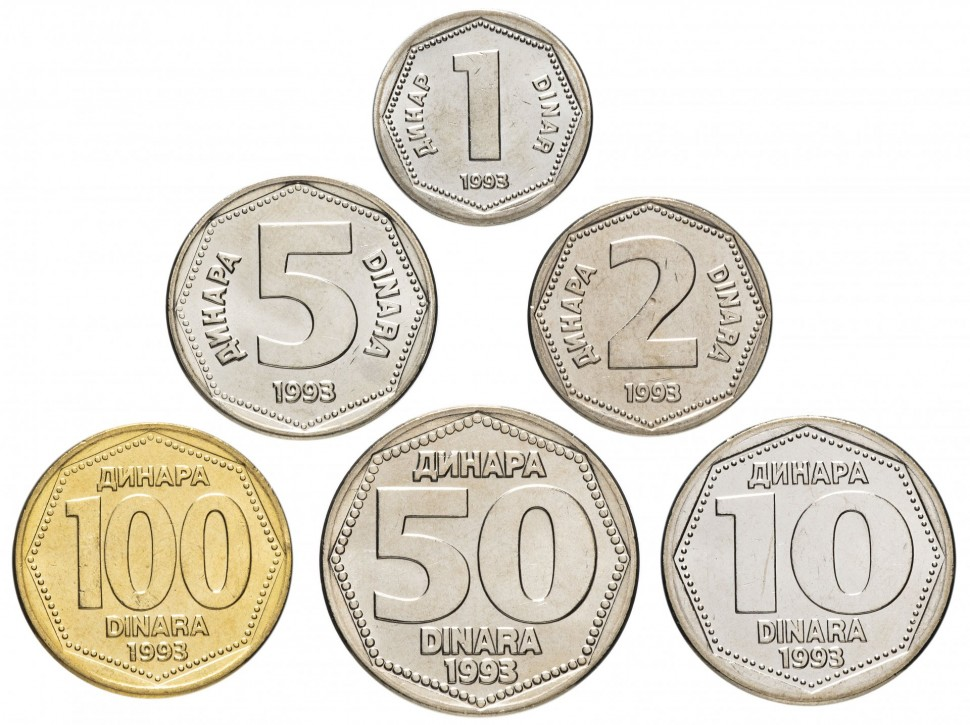coin: (318, 404, 642, 718), (660, 416, 958, 708), (12, 422, 293, 699), (165, 173, 438, 440), (526, 197, 773, 437), (371, 8, 593, 226)
